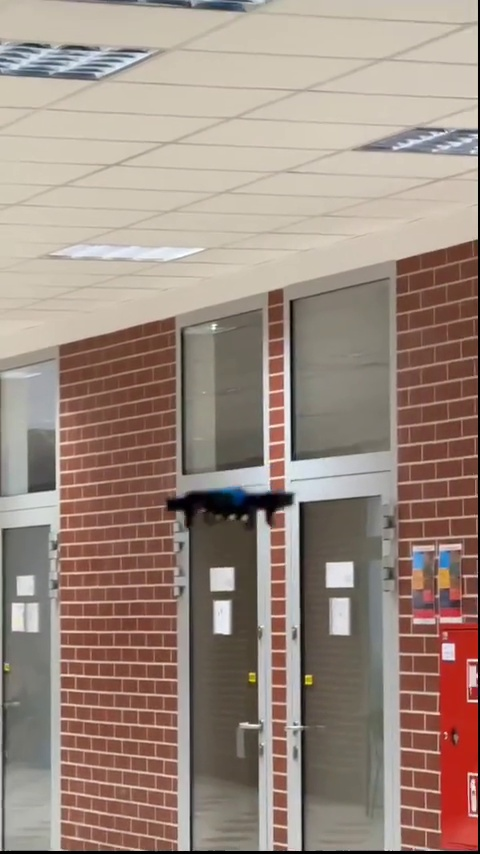drone: (171, 487, 296, 535)
